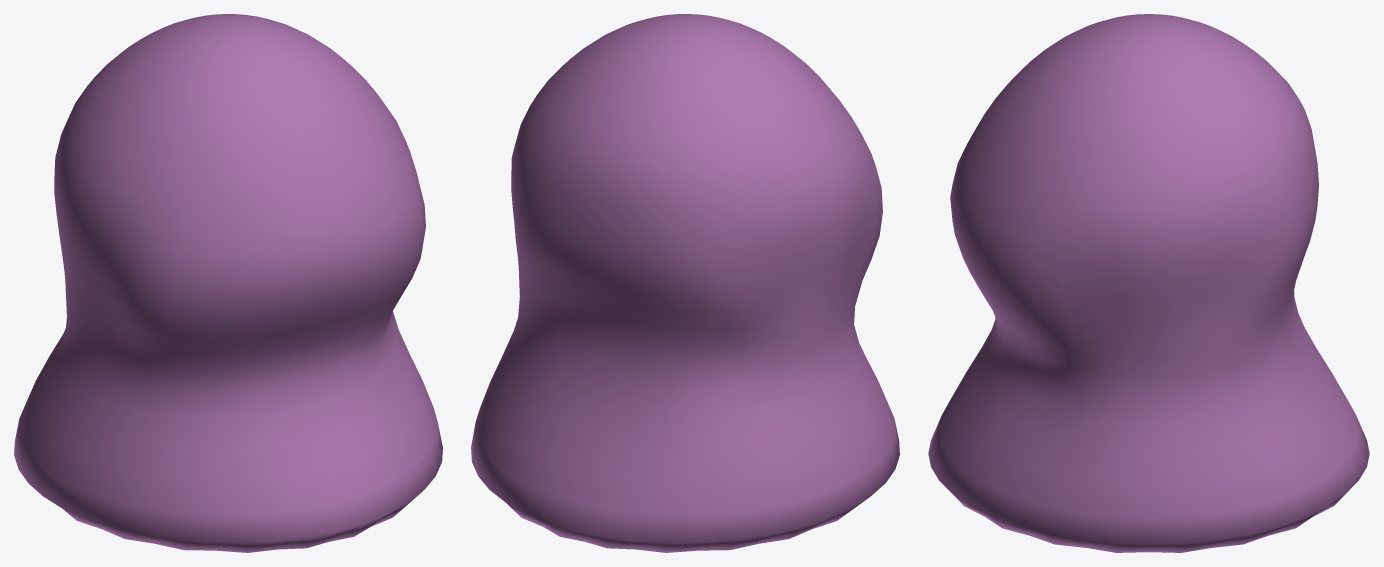
Rendered from Female_Body.fbx.
3 renders of one model, left to right at view 1: azimuth 30°, elevation 25°; view 2: azimuth 150°, elevation 25°; view 3: azimuth 270°, elevation 25°, orthographic.
Visible parts, largest first — view 1: pasted__pasted__Body; view 2: pasted__pasted__Body; view 3: pasted__pasted__Body.
Part boxes in pixels (x1,y1,x2,y2): pasted__pasted__Body: (14,14,442,552); pasted__pasted__Body: (471,14,899,552); pasted__pasted__Body: (928,14,1369,552).
Size of the model in its own units: 1.87 by 2.14 by 1.91.
